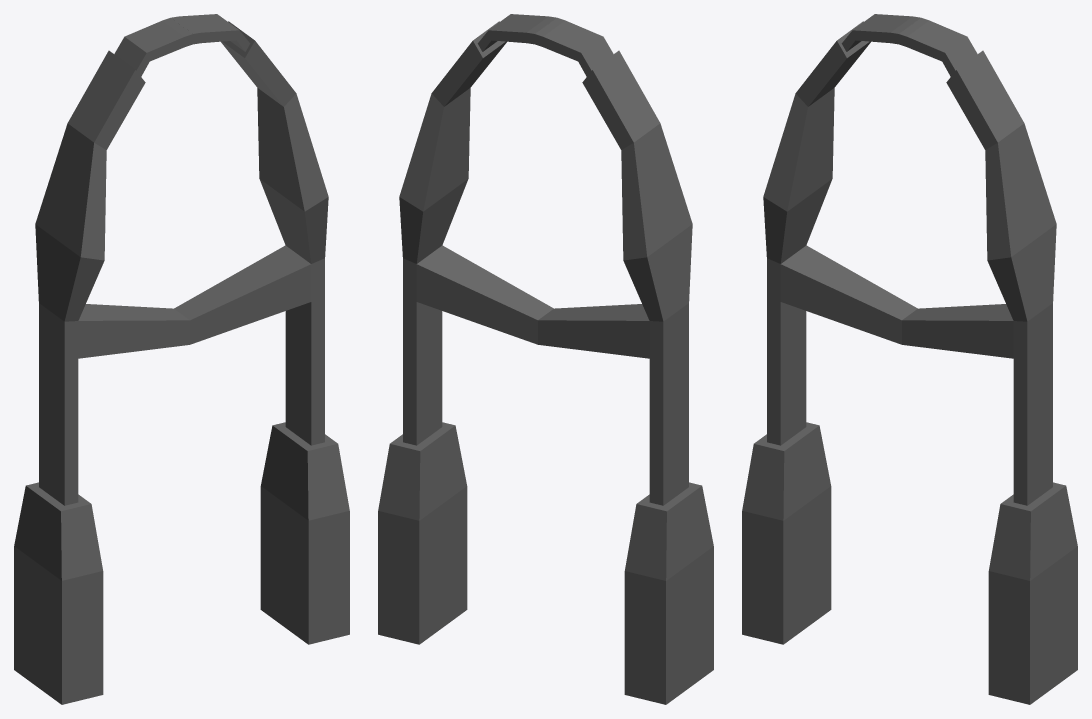
File: sign.fbx
The picture shows the model from 3 angles, left to right: view 1: azimuth 30°, elevation 25°; view 2: azimuth 150°, elevation 25°; view 3: azimuth 330°, elevation 25°; orthographic projection.
Parts seen in each view (by area): view 1: Sign; view 2: Sign; view 3: Sign.
Part boxes in pixels (x1=…): Sign: x1=14, y1=14, x2=349, y2=704; Sign: x1=378, y1=14, x2=713, y2=704; Sign: x1=742, y1=14, x2=1077, y2=704.
Size of the model in its own units: 6.97 by 2 by 14.48.
